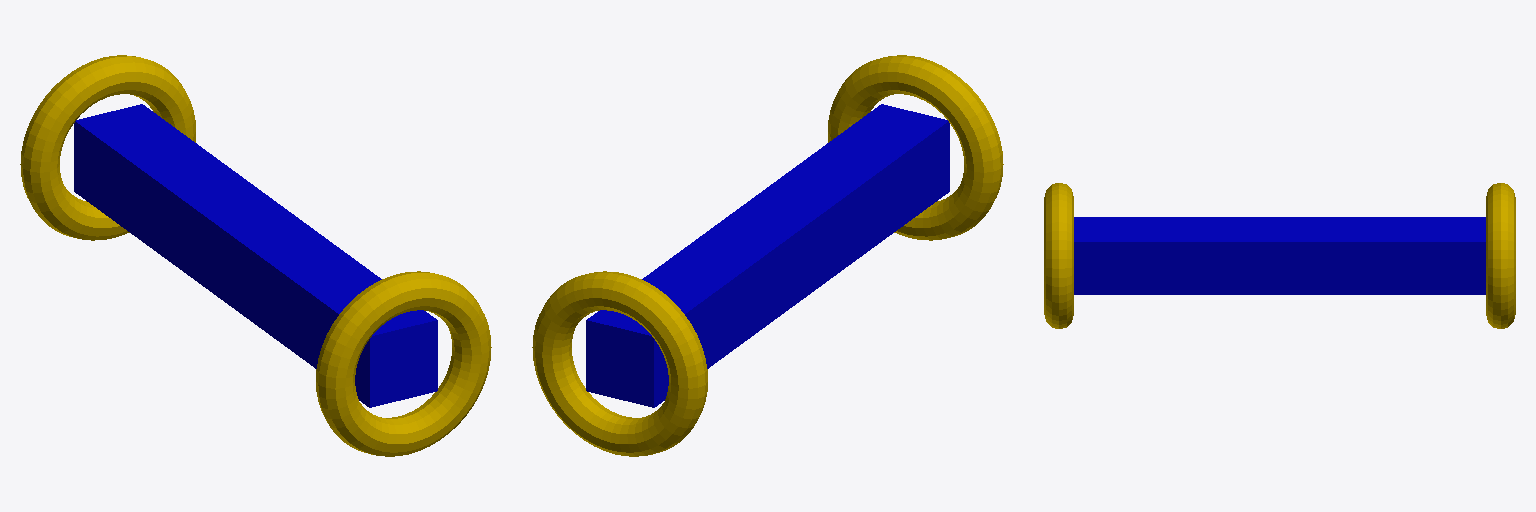
robot.urdf — robot_test:
<robot name="robot_test" version="1.0">
  <joint name="left_wheel_link_joint" type="continuous">
    <limit lower="0" upper="0" effort="0.00000" velocity="0.00000"/>
    <origin rpy="1.57080 0.00000 0.00000" xyz="0.00000 -0.75000 0.00000"/>
    <parent link="base_link"/>
    <child link="left_wheel_link"/>
    <axis xyz="0.00000 0.00000 1.00000"/>
  </joint>
  <joint name="right_wheel_link_joint" type="continuous">
    <limit lower="0" upper="0" effort="0.00000" velocity="0.00000"/>
    <origin rpy="1.57080 0.00000 0.00000" xyz="0.00000 0.75000 0.00000"/>
    <parent link="base_link"/>
    <child link="right_wheel_link"/>
    <axis xyz="0.00000 0.00000 1.00000"/>
  </joint>
  <link name="base_link">
    <collision name="base_collision">
      <origin rpy="1.57080 0.00000 0.00000" xyz="0.00000 0.00000 0.00000"/>
      <geometry>
        <box size="0.20000 0.20000 1.50000"/>
      </geometry>
    </collision>
    <inertial>
      <inertia ixx="1.14500" ixy="0.00000" ixz="0.00000" iyy="0.04000" iyz="-0.00000" izz="1.14500"/>
      <origin rpy="0.00000 0.00000 0.00000" xyz="0.00000 0.00000 0.00000"/>
      <mass value="6.00000"/>
    </inertial>
    <visual name="base">
      <origin rpy="1.57080 0.00000 0.00000" xyz="0.00000 0.00000 0.00000"/>
      <material name="Material"/>
      <geometry>
        <box size="0.20000 0.20000 1.50000"/>
      </geometry>
    </visual>
  </link>
  <link name="left_wheel_link">
    <collision name="left_wheel_collision">
      <origin rpy="0.00000 0.00000 0.00000" xyz="0.00000 0.00000 0.00000"/>
      <geometry>
        <mesh filename="../meshes/dae/Torus.dae" scale="0.20000 0.20000 0.20000"/>
      </geometry>
    </collision>
    <inertial>
      <inertia ixx="0.01513" ixy="0.00000" ixz="0.00000" iyy="0.02926" iyz="0.00000" izz="0.01513"/>
      <origin rpy="0.00000 0.00000 0.00000" xyz="0.00000 -0.00000 0.00000"/>
      <mass value="1.00000"/>
    </inertial>
    <visual name="left_wheel">
      <origin rpy="0.00000 0.00000 0.00000" xyz="0.00000 0.00000 0.00000"/>
      <material name="Material.001"/>
      <geometry>
        <mesh filename="../meshes/dae/Torus.dae" scale="0.20000 0.20000 0.20000"/>
      </geometry>
    </visual>
  </link>
  <link name="right_wheel_link">
    <collision name="right_wheel_collision">
      <origin rpy="0.00000 0.00000 0.00000" xyz="0.00000 0.00000 0.00000"/>
      <geometry>
        <mesh filename="../meshes/dae/Torus.001.dae" scale="0.20000 0.20000 0.20000"/>
      </geometry>
    </collision>
    <inertial>
      <inertia ixx="0.01513" ixy="0.00000" ixz="0.00000" iyy="0.02926" iyz="0.00000" izz="0.01513"/>
      <origin rpy="0.00000 0.00000 0.00000" xyz="0.00000 -0.00000 0.00000"/>
      <mass value="1.00000"/>
    </inertial>
    <visual name="right_wheel">
      <origin rpy="0.00000 0.00000 0.00000" xyz="0.00000 0.00000 0.00000"/>
      <material name="Material.001"/>
      <geometry>
        <mesh filename="../meshes/dae/Torus.001.dae" scale="0.20000 0.20000 0.20000"/>
      </geometry>
    </visual>
  </link>
  <material name="Material">
    <color rgba="0.02745 0.03137 0.80000 1.00000"/>
  </material>
  <material name="Material.001">
    <color rgba="0.80000 0.67059 0.00392 1.00000"/>
  </material>
</robot>

--- Render facts (derived) ---
The picture shows the robot from 3 angles, left to right: view 1: azimuth 30°, elevation 25°; view 2: azimuth 150°, elevation 25°; view 3: azimuth 270°, elevation 25°; orthographic projection.
Robot: robot_test — 3 links, 2 joints (2 continuous); root link base_link; default pose: every joint at zero.
Visible links, largest first — view 1: base_link, left_wheel_link, right_wheel_link; view 2: base_link, right_wheel_link, left_wheel_link; view 3: base_link, left_wheel_link, right_wheel_link.
Boxes of the visible links, left/top/right/bottom form: base_link: left=74, top=104, right=437, bottom=407; left_wheel_link: left=316, top=271, right=491, bottom=456; right_wheel_link: left=20, top=55, right=195, bottom=240; base_link: left=586, top=104, right=949, bottom=407; right_wheel_link: left=532, top=271, right=707, bottom=456; left_wheel_link: left=828, top=55, right=1003, bottom=240; base_link: left=1074, top=217, right=1485, bottom=294; left_wheel_link: left=1044, top=183, right=1073, bottom=328; right_wheel_link: left=1486, top=183, right=1515, bottom=328.
Size in the robot's own frame: 0.5 by 1.6 by 0.5 metres.
2 mesh visuals loaded from 2 distinct referenced files (2 Collada DAE).